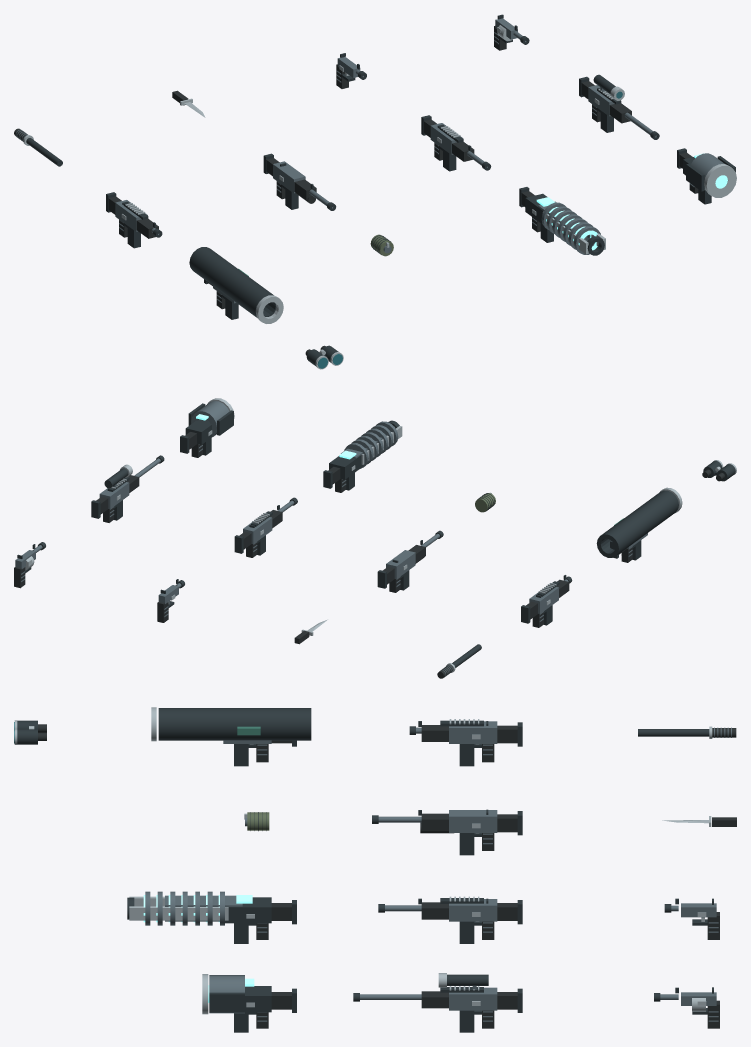
File: dc017-equipment.glb
3 views of the same model, one above another, from view 1: azimuth 30°, elevation 25°; view 2: azimuth 150°, elevation 25°; view 3: azimuth 270°, elevation 25° (orthographic). The views are drawn at different scales.
Visible parts, largest first — view 1: launcher_part4, gauss_part3, gauss_part0, emp_part0, emp_part2, sniper_part3, shotgun_part0, shotgun_part1, sniper_part0, rifle_part3, smg_part3, sniper_part1; view 2: launcher_part4, gauss_part3, emp_part0, gauss_part0, sniper_part3, shotgun_part0, sniper_part0, emp_part3, rifle_part3, smg_part3, rifle_part0, shotgun_part1; view 3: launcher_part4, gauss_part3, emp_part0, gauss_part0, shotgun_part0, sniper_part0, sniper_part3, gauss_part2, shotgun_part1, rifle_part0, sniper_part1, smg_part1 (+10 smaller).
Boxes of the visible parts, x1,y1,x2,y2 form: launcher_part4: [189, 247, 276, 317]; gauss_part3: [538, 201, 600, 254]; gauss_part0: [519, 187, 604, 255]; emp_part0: [677, 148, 735, 204]; emp_part2: [704, 164, 736, 197]; sniper_part3: [579, 74, 659, 139]; shotgun_part0: [273, 161, 333, 208]; shotgun_part1: [266, 158, 316, 203]; sniper_part0: [588, 85, 656, 137]; rifle_part3: [421, 115, 491, 171]; smg_part3: [106, 192, 162, 248]; sniper_part1: [581, 81, 631, 123]; launcher_part4: [596, 490, 678, 557]; gauss_part3: [341, 421, 398, 468]; emp_part0: [180, 403, 233, 455]; gauss_part0: [323, 420, 399, 490]; sniper_part3: [91, 455, 164, 520]; shotgun_part0: [386, 533, 439, 578]; sniper_part0: [99, 458, 160, 508]; emp_part3: [191, 401, 229, 437]; rifle_part3: [234, 497, 297, 555]; smg_part3: [521, 575, 572, 625]; rifle_part0: [243, 500, 294, 544]; shotgun_part1: [383, 545, 425, 592]; launcher_part4: [158, 708, 311, 740]; gauss_part3: [145, 891, 242, 925]; emp_part0: [209, 975, 296, 1032]; gauss_part0: [127, 897, 296, 943]; shotgun_part0: [378, 810, 497, 832]; sniper_part0: [360, 985, 497, 1010]; sniper_part3: [353, 974, 522, 1032]; gauss_part2: [129, 896, 254, 920]; shotgun_part1: [420, 813, 517, 850]; rifle_part0: [385, 899, 497, 921]; sniper_part1: [421, 991, 517, 1028]; smg_part1: [421, 725, 517, 762].
Bounding box in the file's own units: 4.31 × 0.405 × 4.65.
